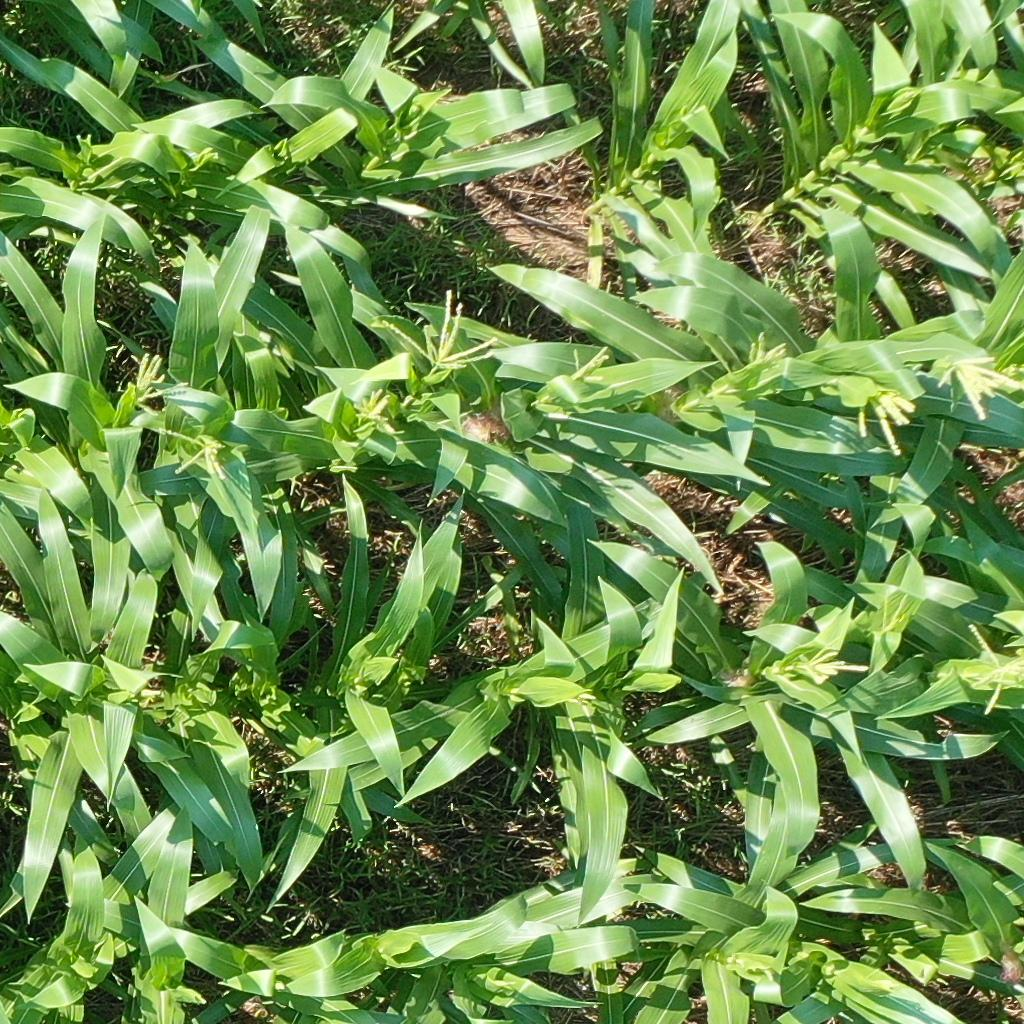Tassel: (377, 286, 500, 376), (935, 356, 1024, 422), (963, 623, 1024, 717), (122, 348, 190, 422), (855, 389, 922, 461), (163, 427, 232, 481), (789, 637, 864, 685), (347, 385, 393, 438), (570, 342, 617, 387), (740, 328, 788, 371), (876, 591, 911, 640), (867, 970, 901, 994), (566, 690, 598, 705), (749, 964, 775, 981)
